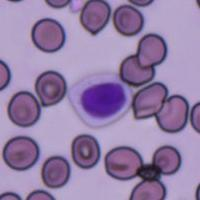L: (67, 71, 134, 127)
